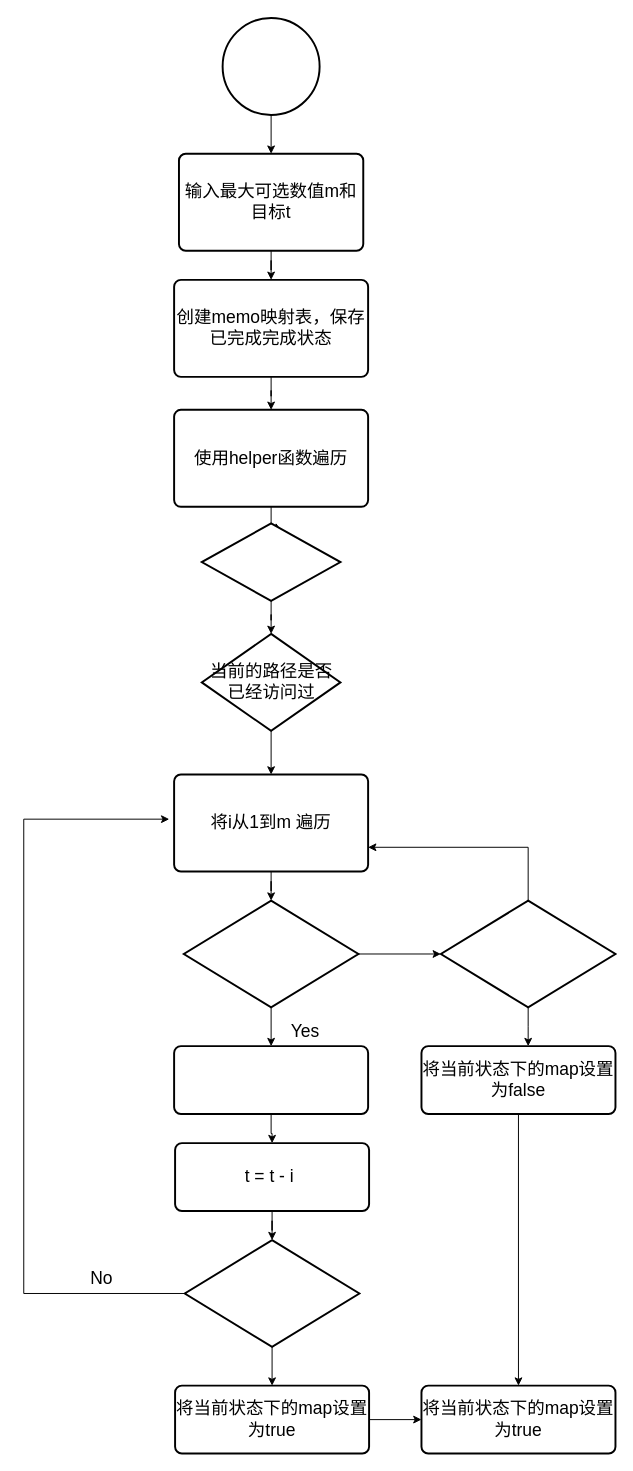
This 633x1471 diagram has some shape labels left out. Here are the shapes that lost their labels. From the top down, the centre of each, then its label:
At pixel 270 561: "t < 0".
At pixel 270 953: "i没被访问？".
At pixel 527 953: "有剩余 元素".
At pixel 271 1080: "访问i".
At pixel 271 1293: "返回的结果为false，（对手必输）".
